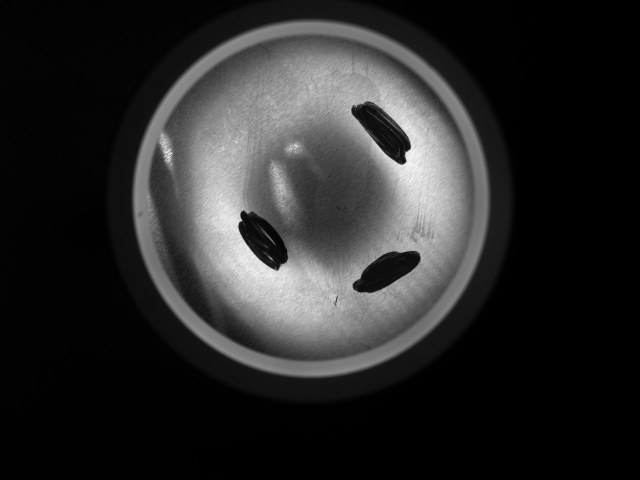zang_wu: (348, 100, 411, 167), (235, 207, 290, 274), (347, 248, 420, 297)
